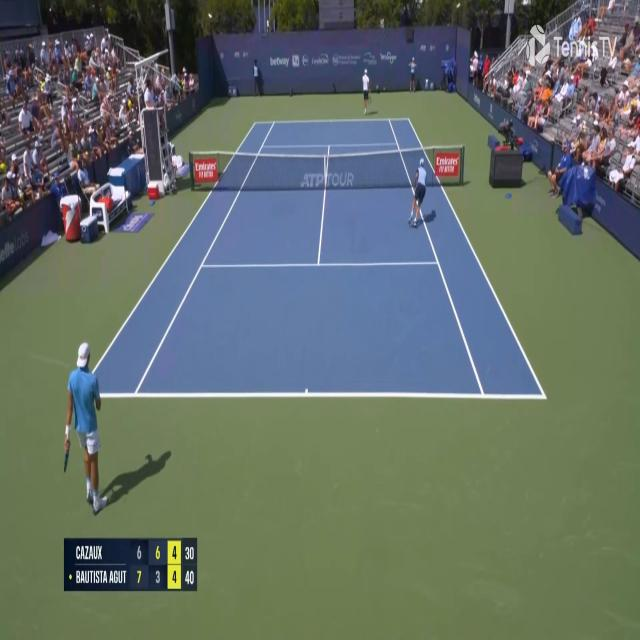tennis-player: (63, 334, 119, 516), (362, 68, 372, 115)
